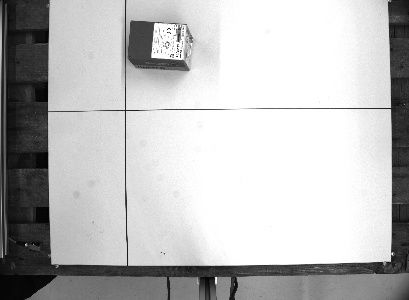b4: (125, 18, 195, 72)
